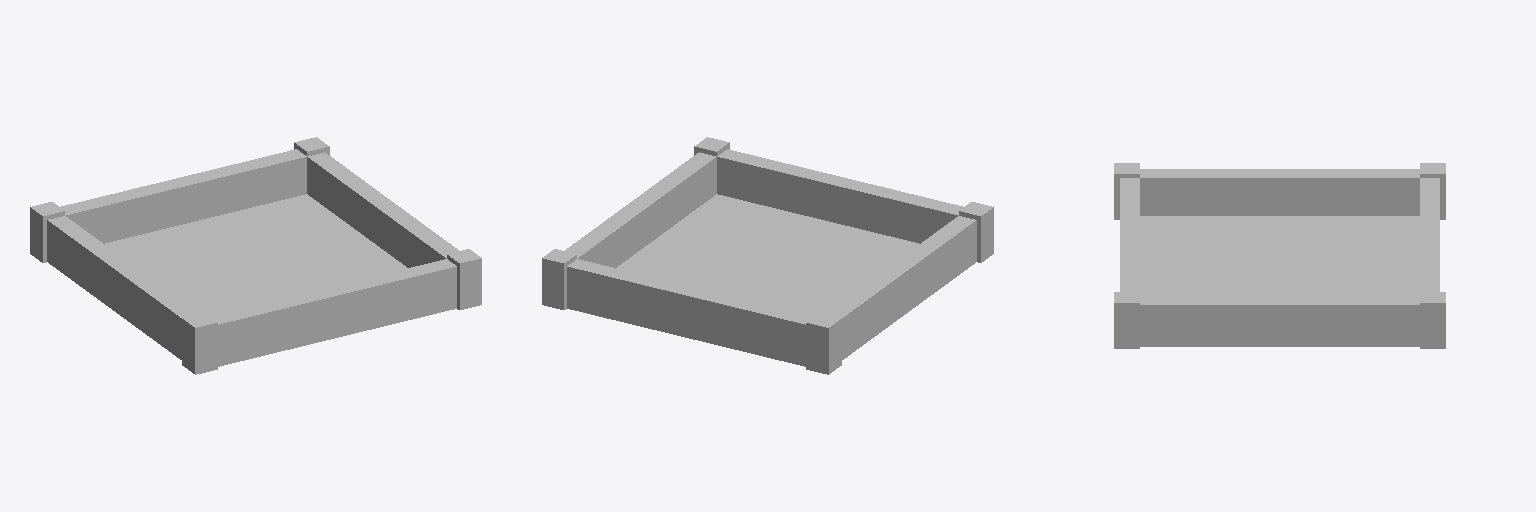
Rendered from Hole.obj.
The picture shows the model from 3 angles: view 1: azimuth 30°, elevation 25°; view 2: azimuth 150°, elevation 25°; view 3: azimuth 270°, elevation 25°; orthographic projection.
Size of the model in its own units: 64 by 10 by 64.